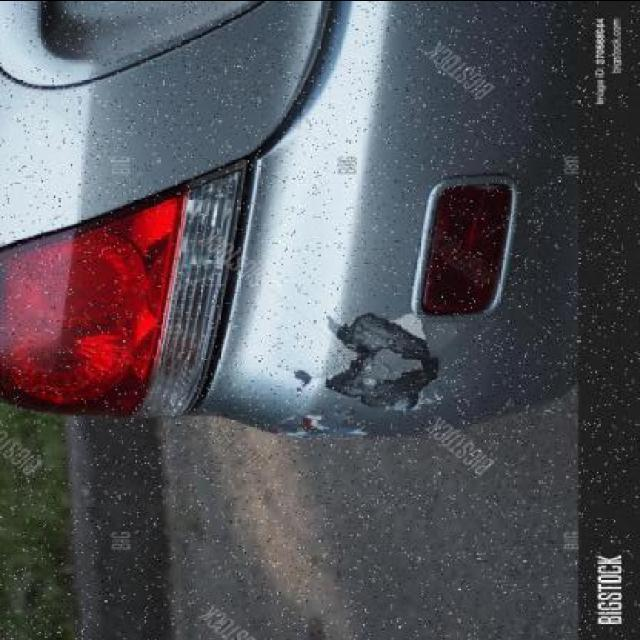rear-bumper-dent: (217, 1, 587, 465)
